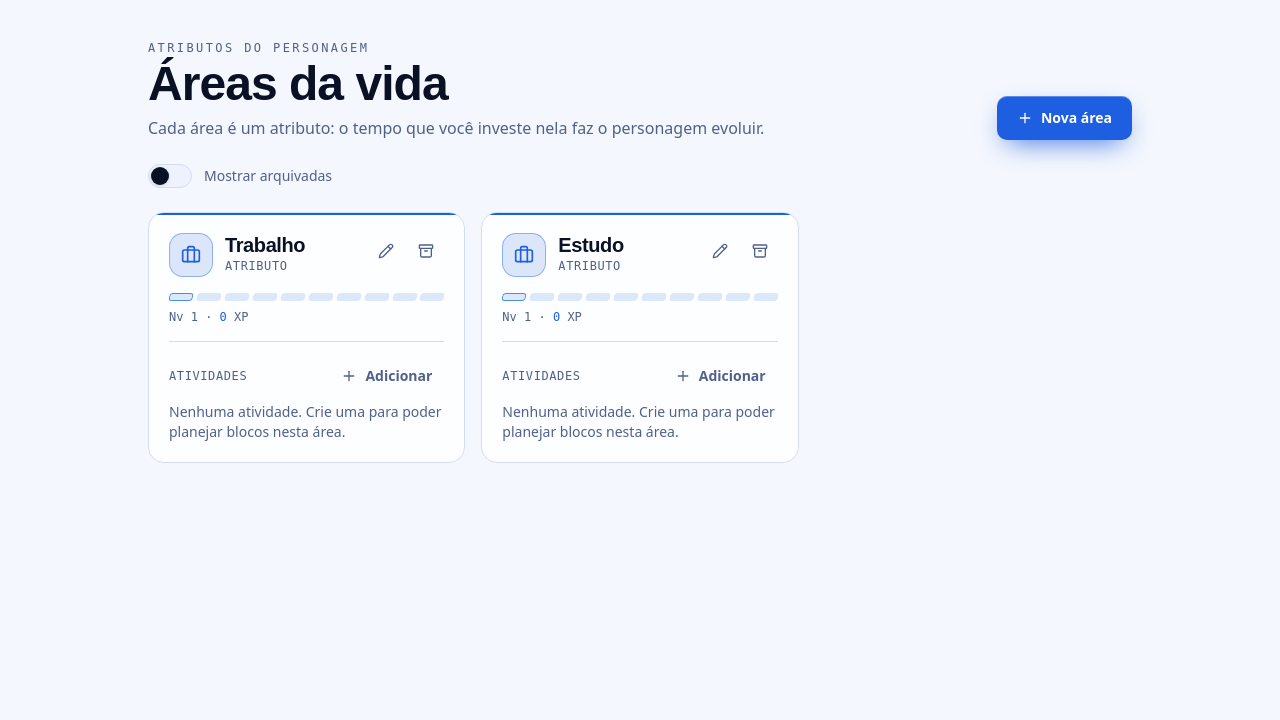
Test: AreasPage: atividades › cria atividade na área do cartão com o peso escolhido
This screenshot has width=1280, height=720.
Click the button with aria-label "Adicionar atividade em Estudo" at (720,376), box [663,358,778,394]
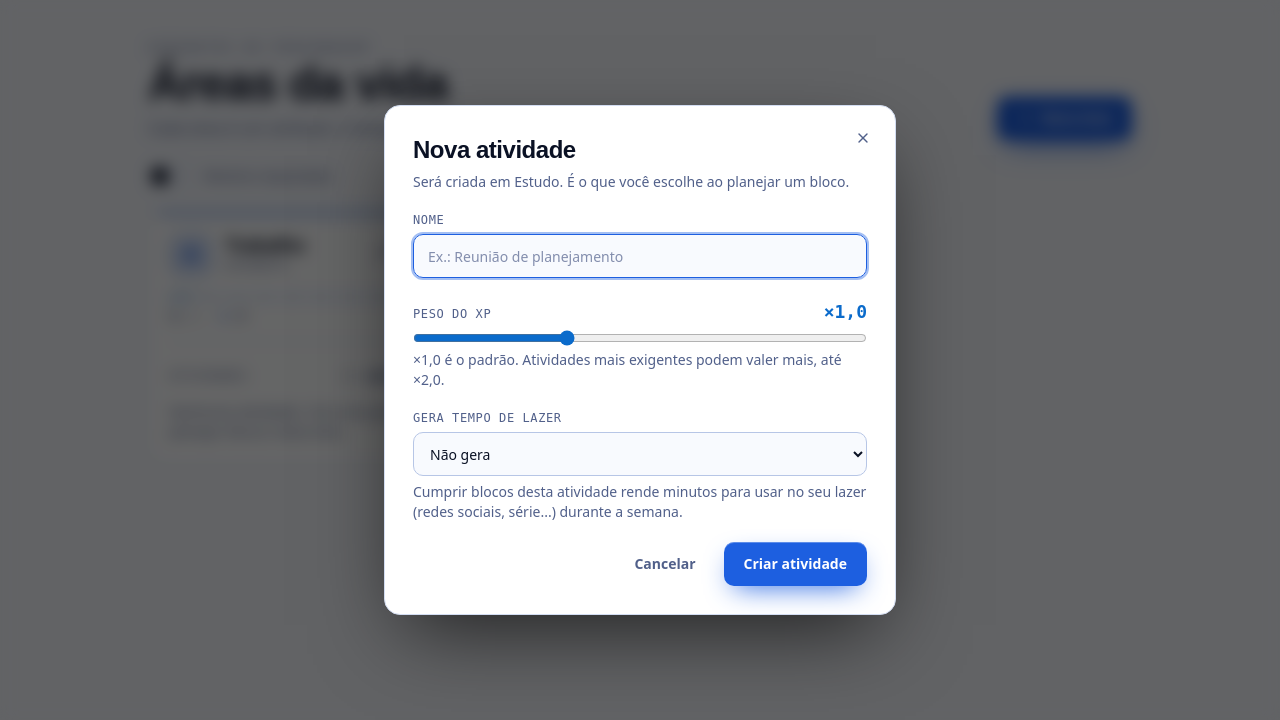
Type "Revisão" into the field labelled "Nome" at (640,256), box [413,234,867,278]
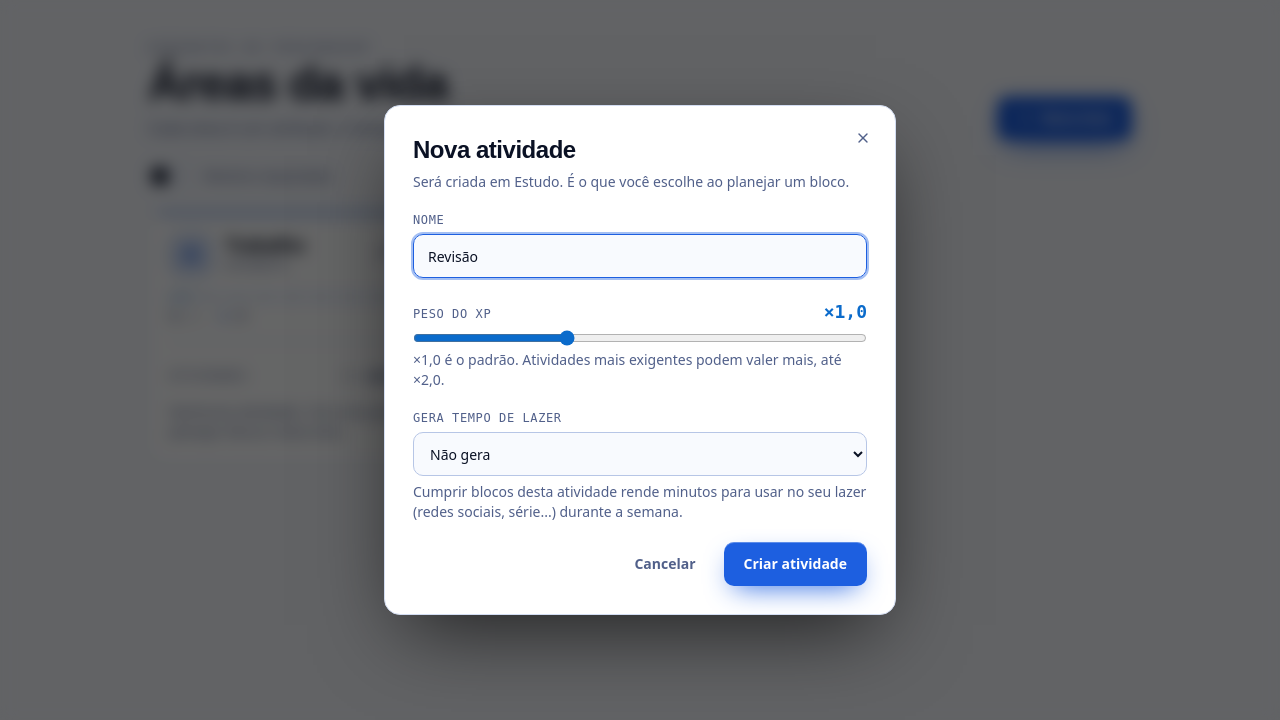
Set the slider labelled "Peso do XP" to "1.5" at (713,338), box [413,334,867,342]
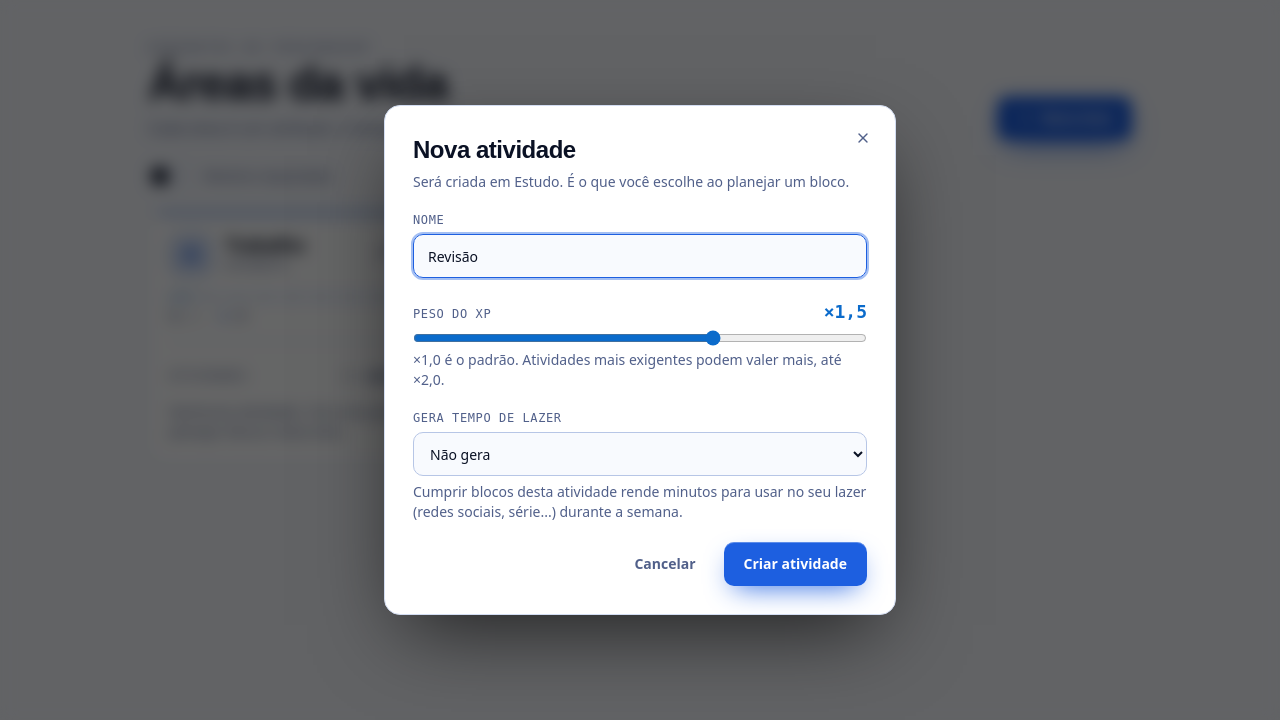
Result: the text "×1,5" is shown at [824,298,867,326]
Click the button "Criar atividade" at (795,564), box [724,542,867,586]
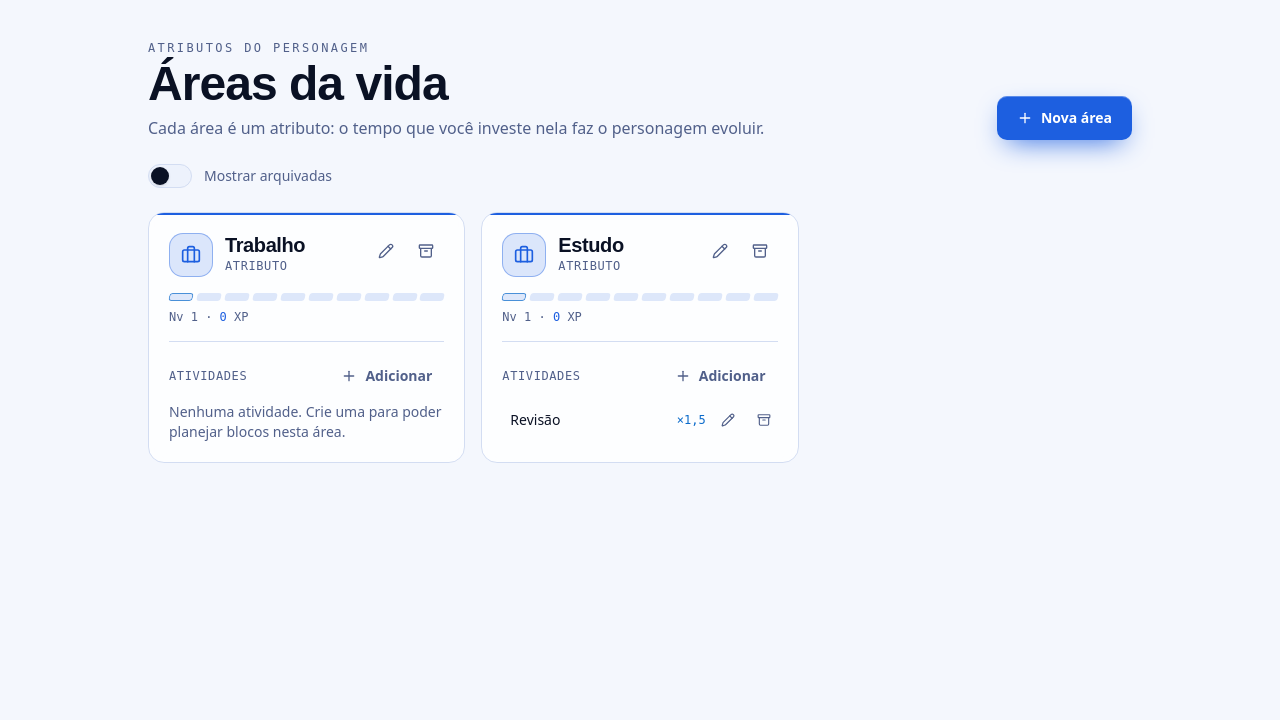
Result: the text "Revisão" is shown at [510,410,560,429]
